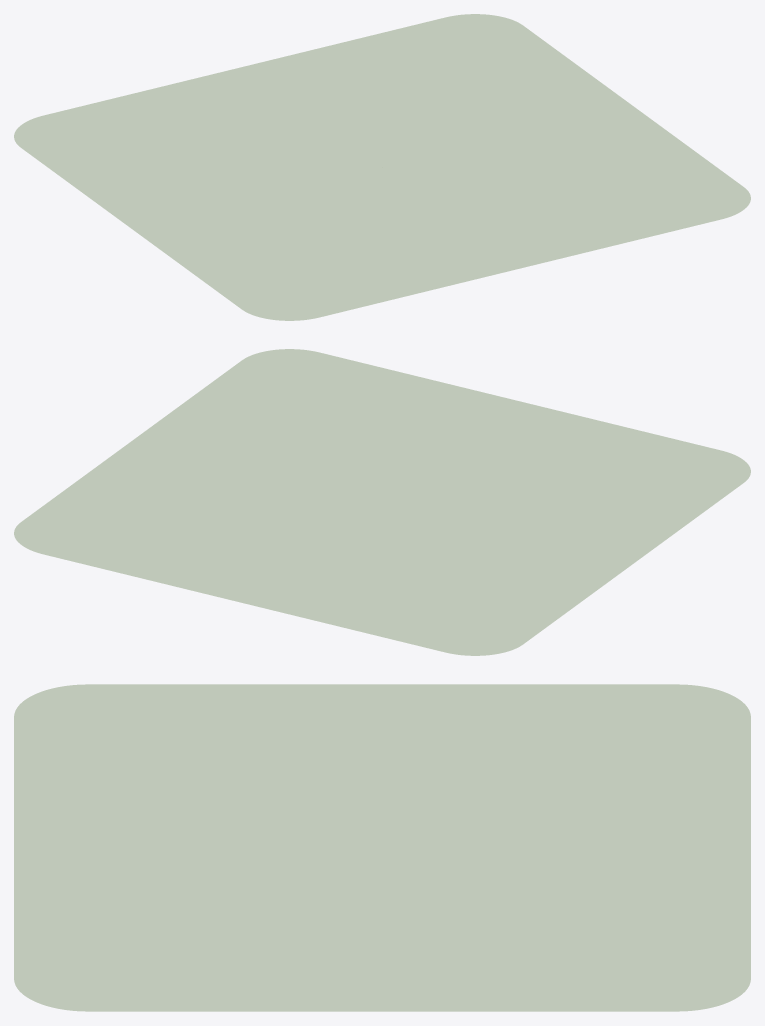
File: roundbox.fbx
The picture shows the model from 3 angles, top to bottom: view 1: azimuth 30°, elevation 25°; view 2: azimuth 150°, elevation 25°; view 3: azimuth 270°, elevation 25°; orthographic projection. The views are drawn at different scales.
Parts seen in each view (by area): view 1: Rectangle_6; view 2: Rectangle_6; view 3: Rectangle_6.
Part boxes in pixels (x1,y1,x2,y2): Rectangle_6: (14, 14, 750, 320); Rectangle_6: (14, 349, 750, 655); Rectangle_6: (14, 684, 750, 1011).
Size of the model in its own units: 2942 by 4.51e-13 by 2801.
